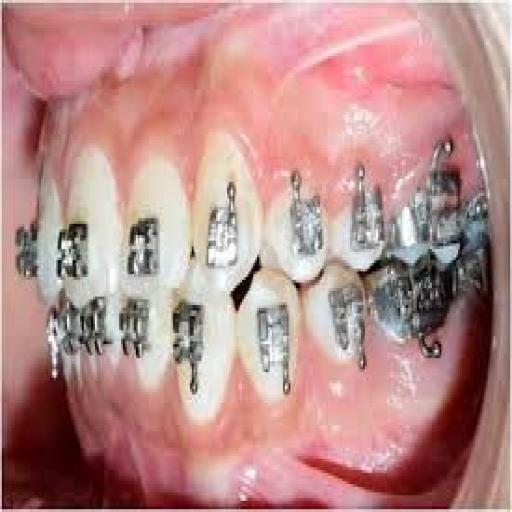correct_brace: (265, 169, 325, 291), (201, 184, 246, 274), (58, 209, 91, 293), (126, 216, 165, 280)
incorrect_brace: (124, 157, 192, 302), (284, 190, 323, 262)
